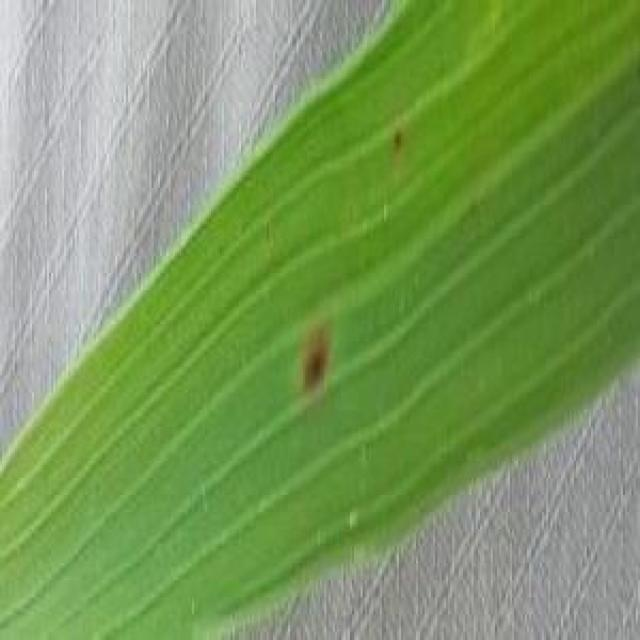brownspots: (280, 328, 346, 397), (392, 124, 408, 162)
